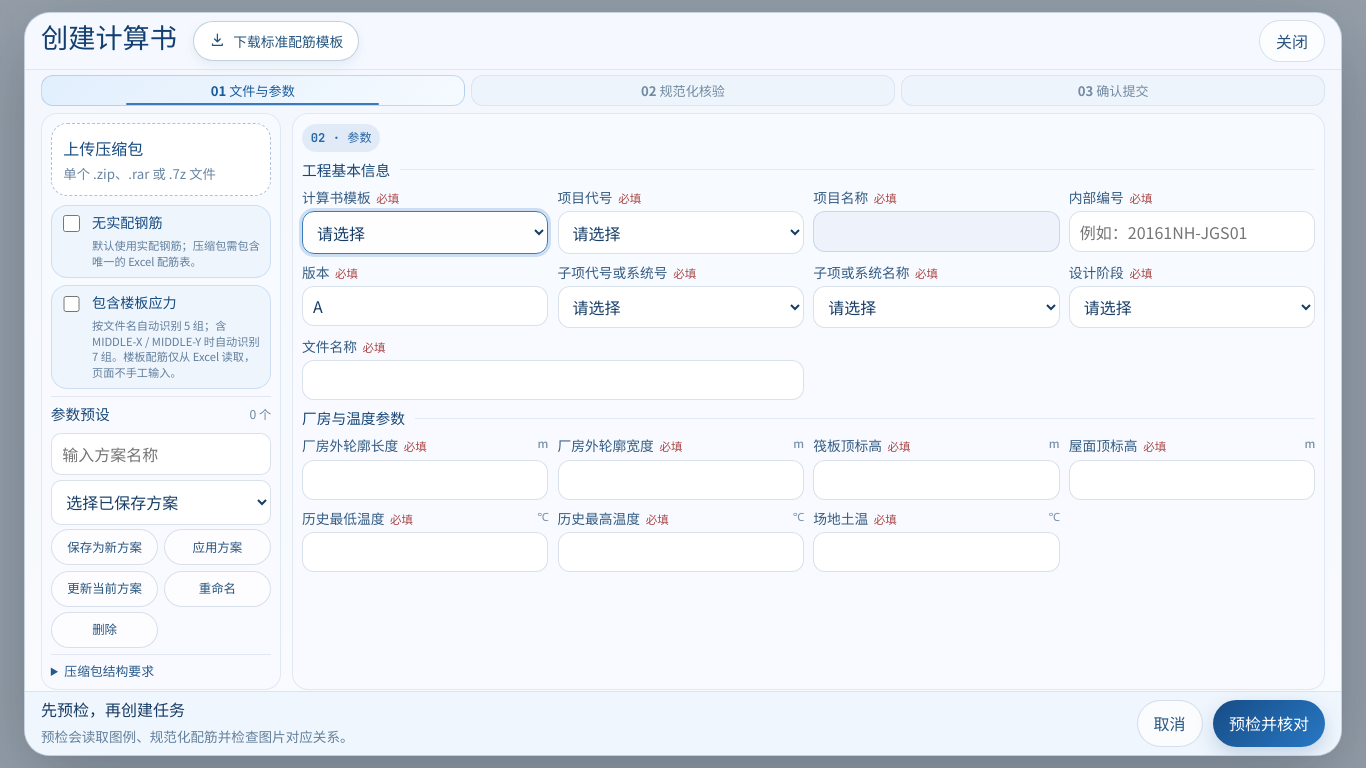
Test: CalculationBookWorkspace › prevents duplicate template downloads while pending and announces success
What coordinates should you click on to do the following:
click the button "下载标准配筋模板"
I would click on:
 (276, 41)
Its box is 193,21 -> 359,61.
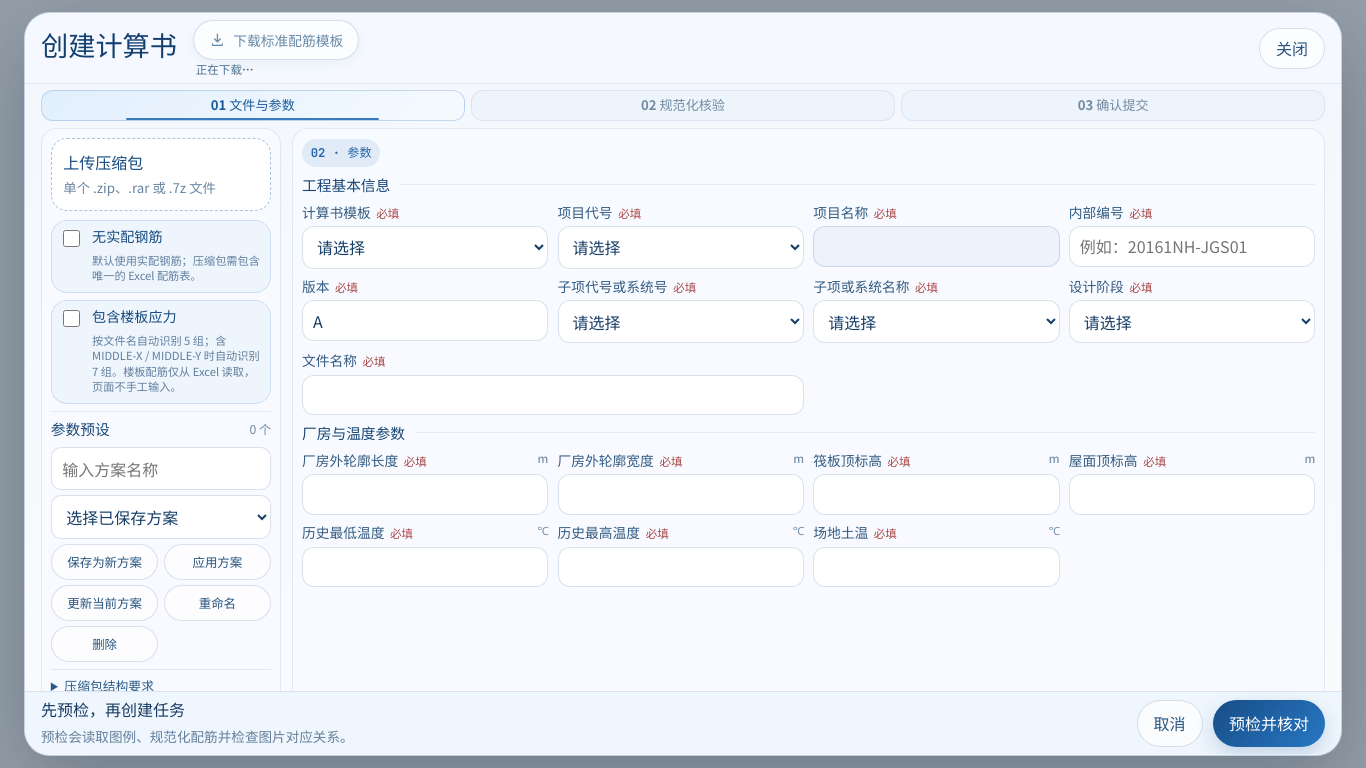
Expected: the button with aria-label "关闭创建计算书" is enabled, 1259,28 -> 1325,69
Expected: the button "下载标准配筋模板" is disabled
Expected: the message reads "正在下载…", 196,61 -> 253,77
What coordinates should you click on to do the following:
click the button "下载标准配筋模板"
I would click on:
 (276, 40)
Its box is 193,20 -> 359,60.
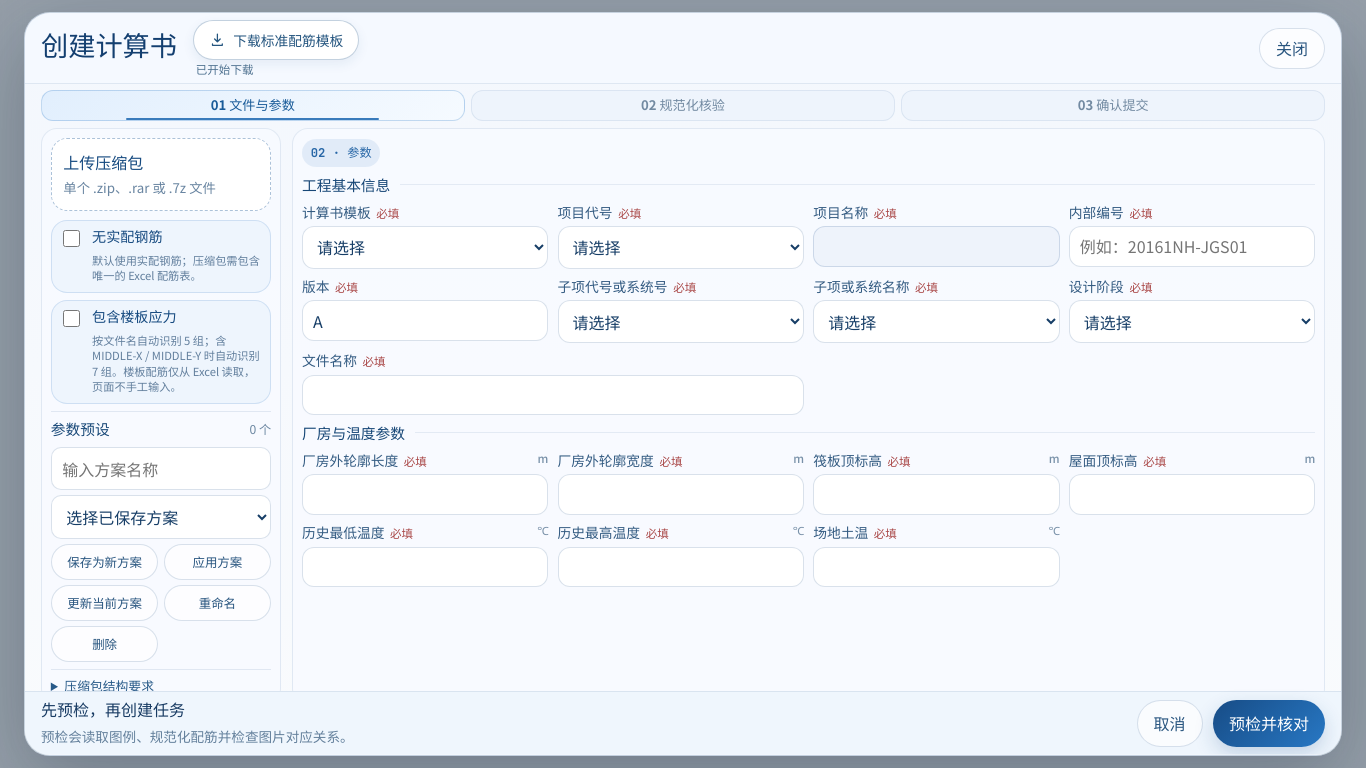
Expected: the message reads "已开始下载", 196,61 -> 253,77
Expected: the button "下载标准配筋模板" is enabled, 193,20 -> 359,60
